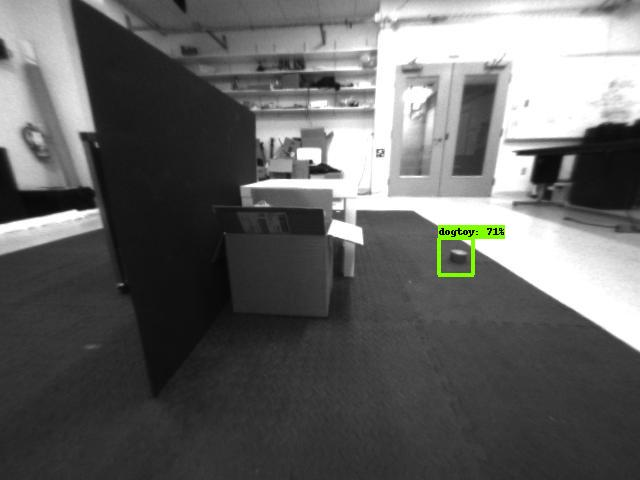dogtoy: (440, 236, 469, 267)
